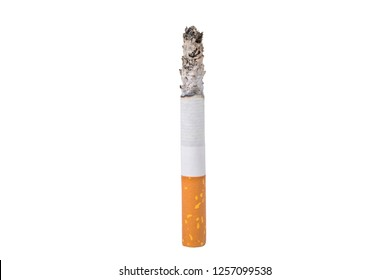cigarette: (168, 11, 214, 253)
